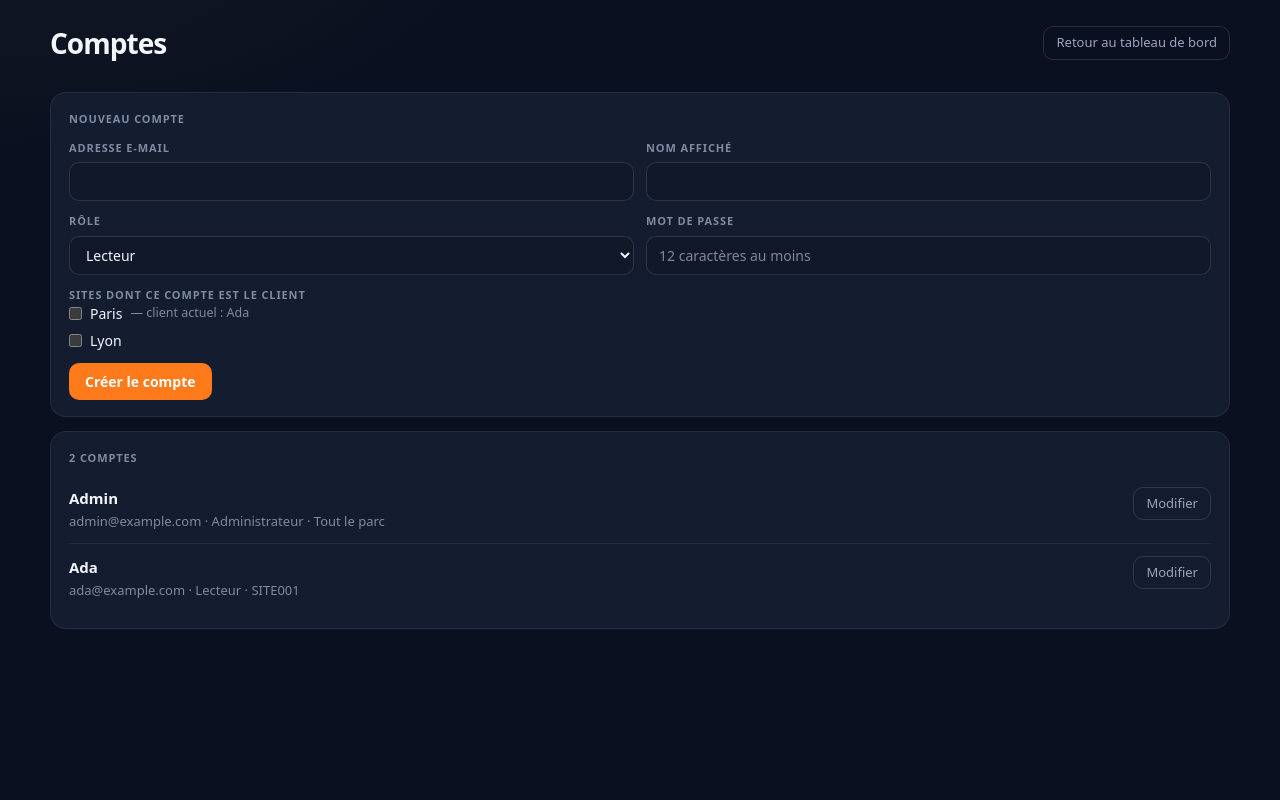
Test: Accounts › shows the refusal of the API next to the form
Step 1. Select "Exploitant" in the dropdown labelled "Rôle" → {"x": 352, "y": 255}, box [69,236,634,274]
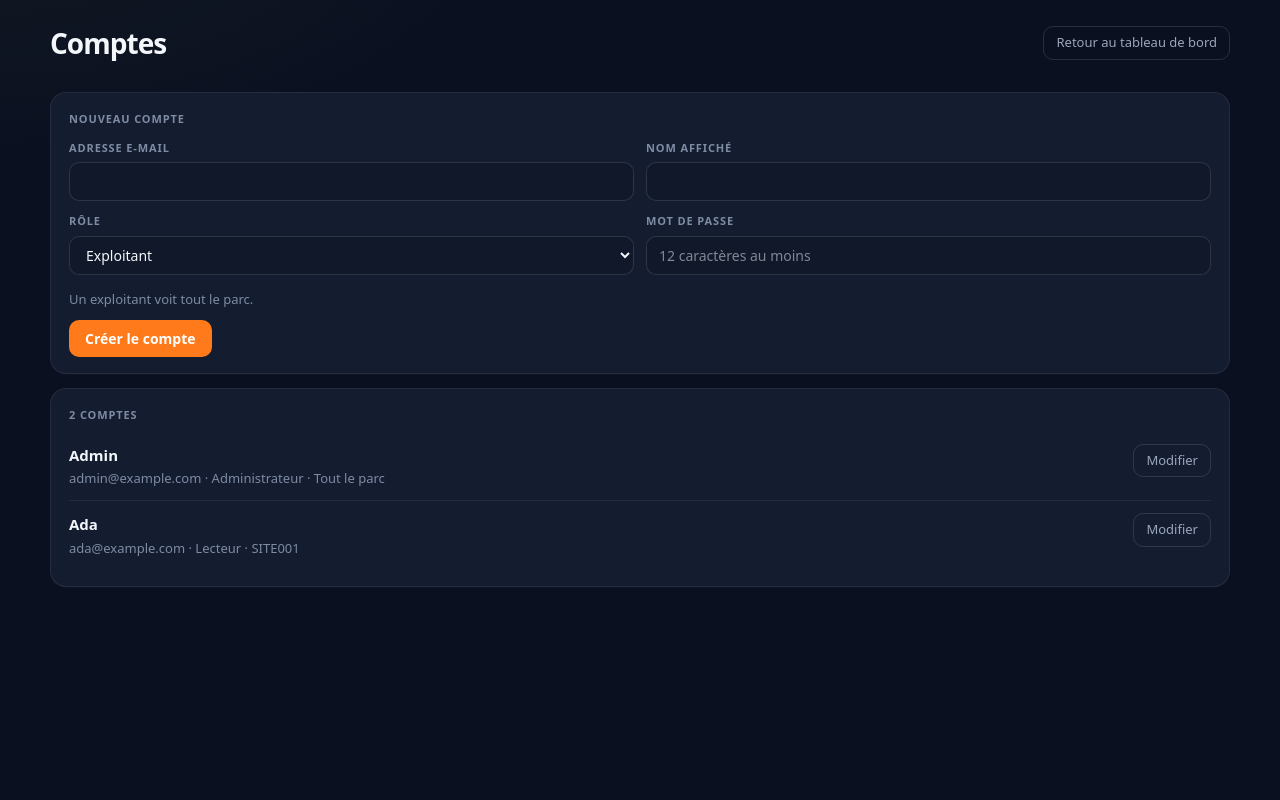
Check: the text "Un exploitant voit tout le parc." is shown, box [69,290,253,308]
Step 2. Submit the form named "Créer le compte", box [69,140,1211,357]
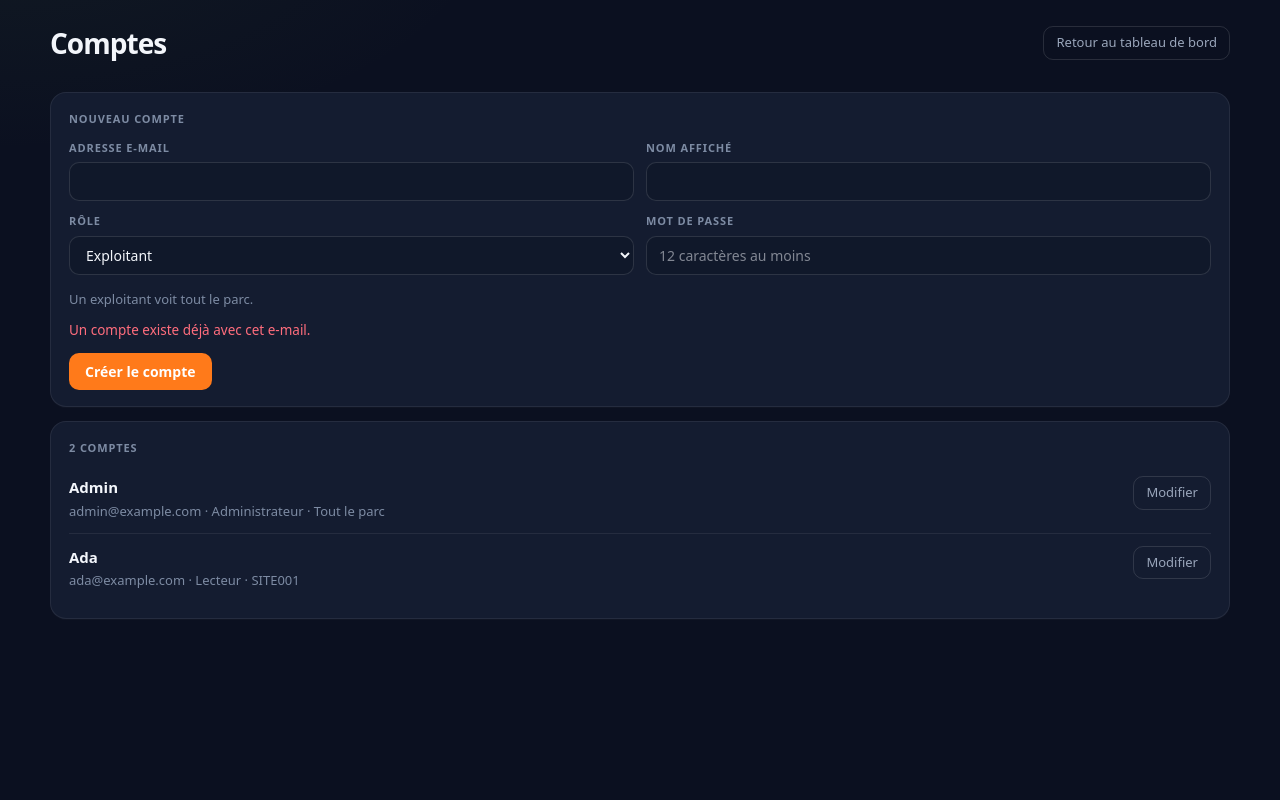
Check: the message reads "Un compte existe déjà avec cet e-mail.", box [69,321,310,339]
